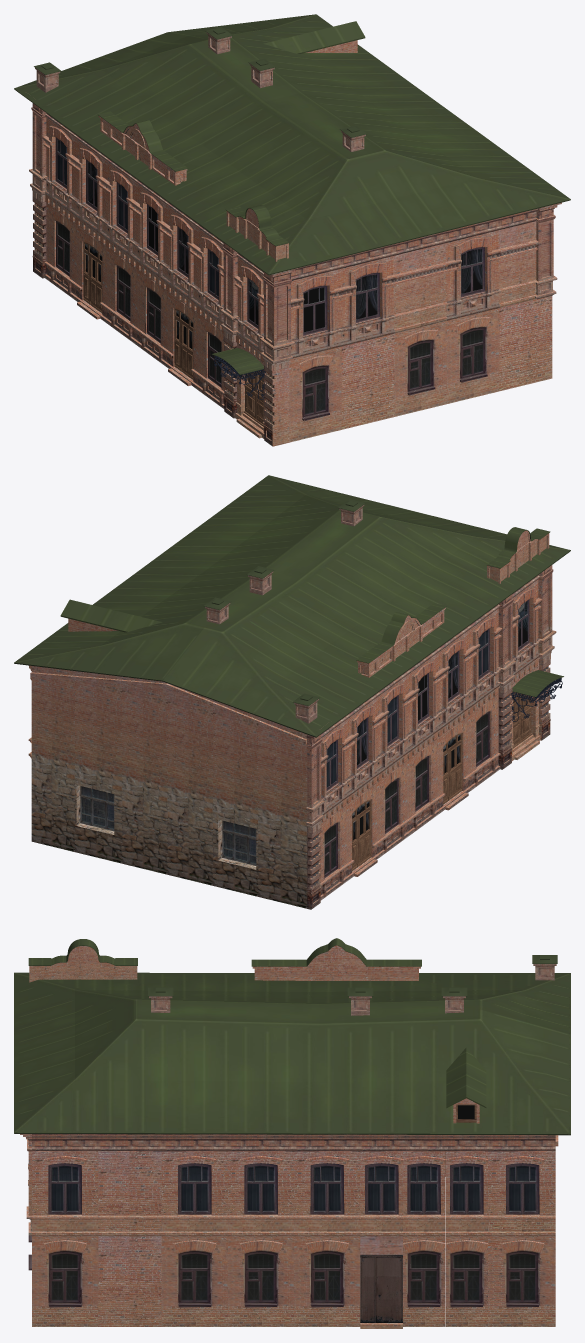
Rendered from kruglov-house-y180.glb.
The picture shows the model from 3 angles, top to bottom: view 1: azimuth 30°, elevation 25°; view 2: azimuth 150°, elevation 25°; view 3: azimuth 270°, elevation 25°; orthographic projection. The views are drawn at different scales.
Parts seen in each view (by area): view 1: Plane.018, kolonna.023, ulicaokno.133, ulicaokno.140, ulicaokno.139, ulicaokno.170, ulicaokno.132, ulicaokno.136, ulicaokno.138, ulicaokno.171, ulicaokno.143, ulicaokno.141 (+33 smaller); view 2: Plane.018, wall pattern.004, Cube.022, kolonna.019, ulicaokno.167, ulicaokno.166, ulicaokno.168, ulicaokno.165, ulicaokno.169, ulicaokno.152, ulicaokno.153, ulicaokno.154 (+18 smaller); view 3: Plane.018, ulicaokno.201, ulicaokno.149, ulicaokno.150, ulicaokno.172, ulicaokno.173, ulicaokno.198, ulicaokno.199, ulicaokno.175, ulicaokno.200, Cube.022, Cube.023 (+13 smaller).
Boxes of the visible parts, <box> form: Plane.018: <box>14,14,570,275</box>; kolonna.023: <box>259,268,297,446</box>; ulicaokno.133: <box>341,333,394,429</box>; ulicaokno.140: <box>499,296,552,391</box>; ulicaokno.139: <box>394,321,446,416</box>; ulicaokno.170: <box>447,308,499,403</box>; ulicaokno.132: <box>289,346,341,442</box>; ulicaokno.136: <box>393,243,448,333</box>; ulicaokno.138: <box>446,230,500,320</box>; ulicaokno.171: <box>341,256,395,346</box>; ulicaokno.143: <box>291,269,343,358</box>; ulicaokno.141: <box>498,221,538,307</box>; Plane.018: <box>14,475,570,737</box>; wall pattern.004: <box>30,666,307,908</box>; Cube.022: <box>356,603,446,677</box>; kolonna.019: <box>306,728,324,909</box>; ulicaokno.167: <box>407,653,441,751</box>; ulicaokno.166: <box>377,675,411,773</box>; ulicaokno.168: <box>438,630,472,729</box>; ulicaokno.165: <box>347,697,381,796</box>; ulicaokno.169: <box>468,608,502,707</box>; ulicaokno.152: <box>377,755,409,857</box>; ulicaokno.153: <box>407,733,439,835</box>; ulicaokno.154: <box>468,689,500,790</box>; Plane.018: <box>14,972,570,1135</box>; ulicaokno.201: <box>488,1151,555,1326</box>; ulicaokno.149: <box>32,1151,98,1326</box>; ulicaokno.150: <box>161,1151,227,1326</box>; ulicaokno.172: <box>228,1151,294,1326</box>; ulicaokno.173: <box>294,1151,360,1326</box>; ulicaokno.198: <box>98,1151,161,1326</box>; ulicaokno.199: <box>360,1151,402,1328</box>; ulicaokno.175: <box>445,1151,487,1326</box>; ulicaokno.200: <box>403,1151,445,1326</box>; Cube.022: <box>251,938,421,980</box>; Cube.023: <box>28,939,137,982</box>.
Size of the model in its own units: 12.86 by 9.42 by 18.1.
Materials: 2 (2 with a texture image).
